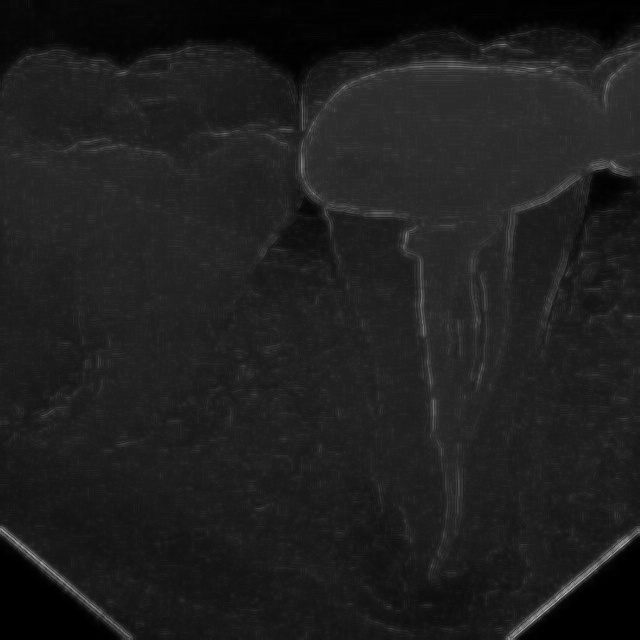Class 0- No endodontic treatment: (260, 27, 625, 614)
